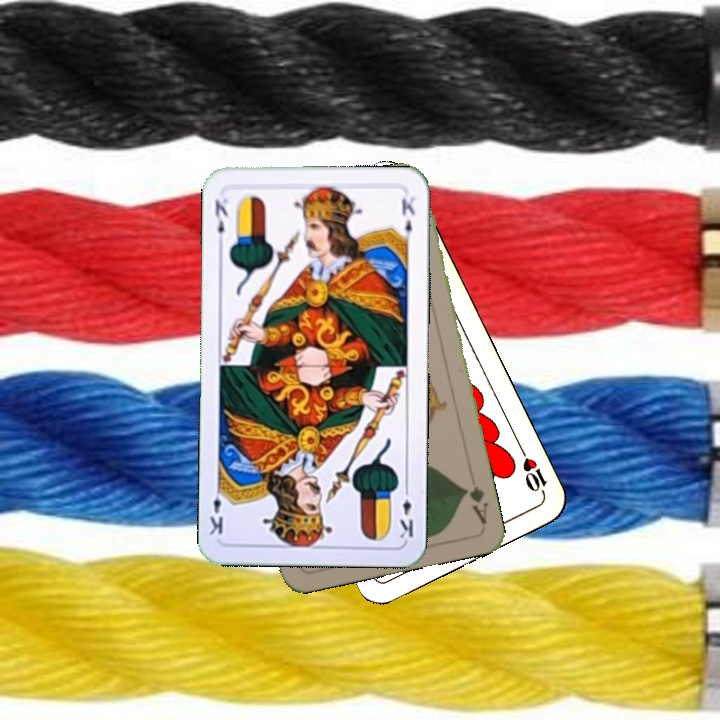EK: (395, 482, 416, 541), (211, 194, 231, 249)
GA: (459, 482, 491, 527)
H10: (515, 443, 550, 498)
